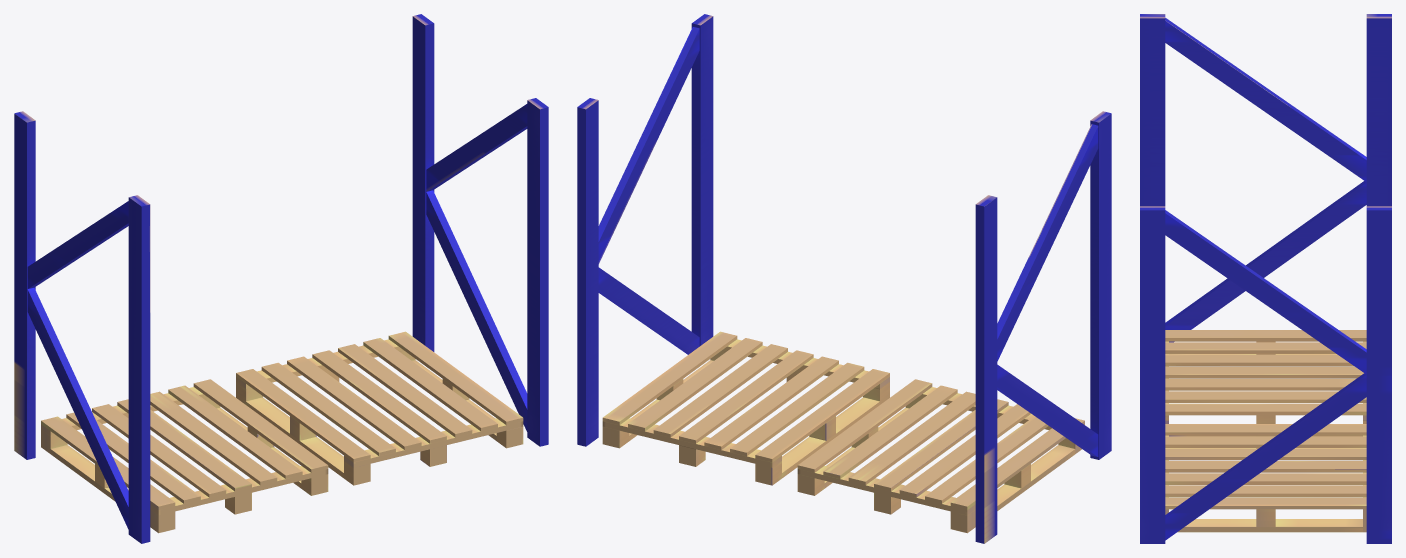
File: chao_2_pallets_256.glb
3 renders of one model, left to right at view 1: azimuth 30°, elevation 25°; view 2: azimuth 150°, elevation 25°; view 3: azimuth 270°, elevation 25°, orthographic.
Visible parts, largest first — view 1: Cube.002; view 2: Cube.002; view 3: Cube.002.
Boxes of the visible parts, x1,y1,x2,y2 form: Cube.002: (14, 14, 548, 543); Cube.002: (577, 14, 1111, 543); Cube.002: (1140, 14, 1391, 543).
Size of the model in its own units: 2.4 by 1.9 by 1.3.
1 material, 1 textured.
